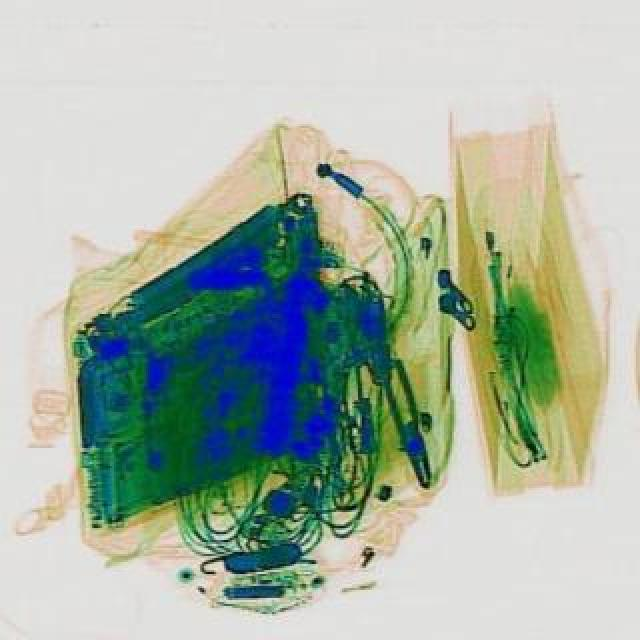wrench: (372, 356, 442, 488)
